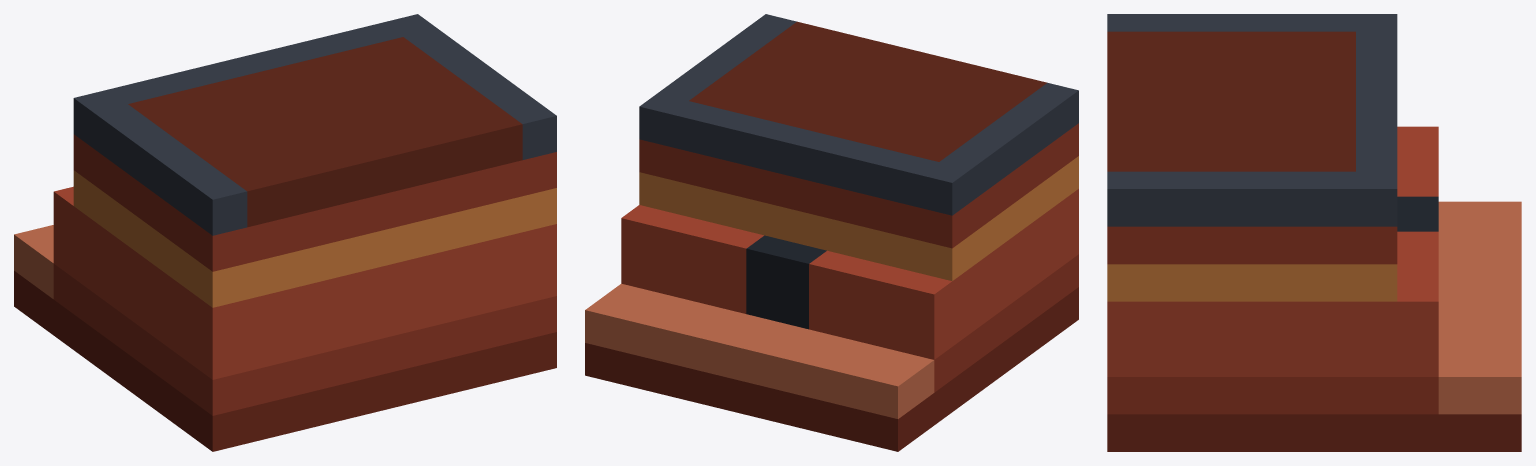
The model's file is terrace_mid_deck.glb.
3 views of the same model, side by side, from view 1: azimuth 30°, elevation 25°; view 2: azimuth 150°, elevation 25°; view 3: azimuth 270°, elevation 25° (orthographic). The views are drawn at different scales.
Visible parts, largest first — view 1: rock; view 2: rock; view 3: rock.
Part boxes in pixels (<box>): rock: <box>14,14,556,451</box>; rock: <box>585,14,1078,451</box>; rock: <box>1107,14,1521,451</box>.
Bounding box in the file's own units: 10 × 7 × 10.
